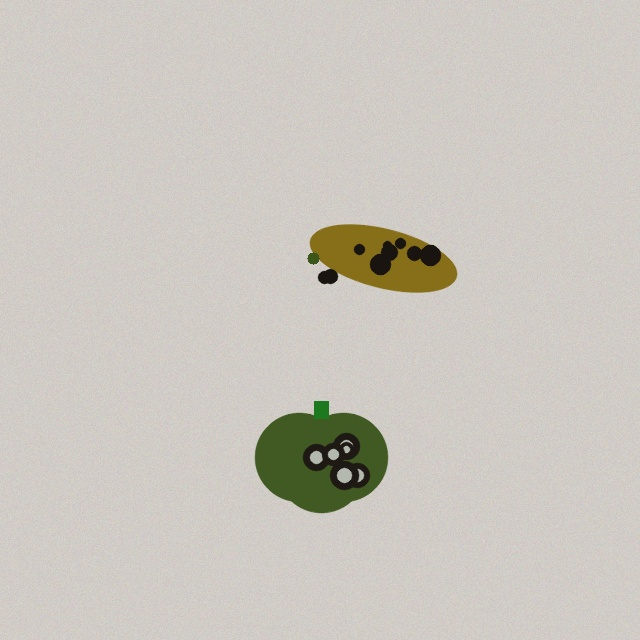Rotten banana: (305, 222, 461, 294)
Rotten bell pepper: (255, 401, 387, 512)
